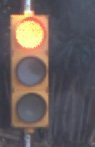Red: (3, 1, 54, 141)
